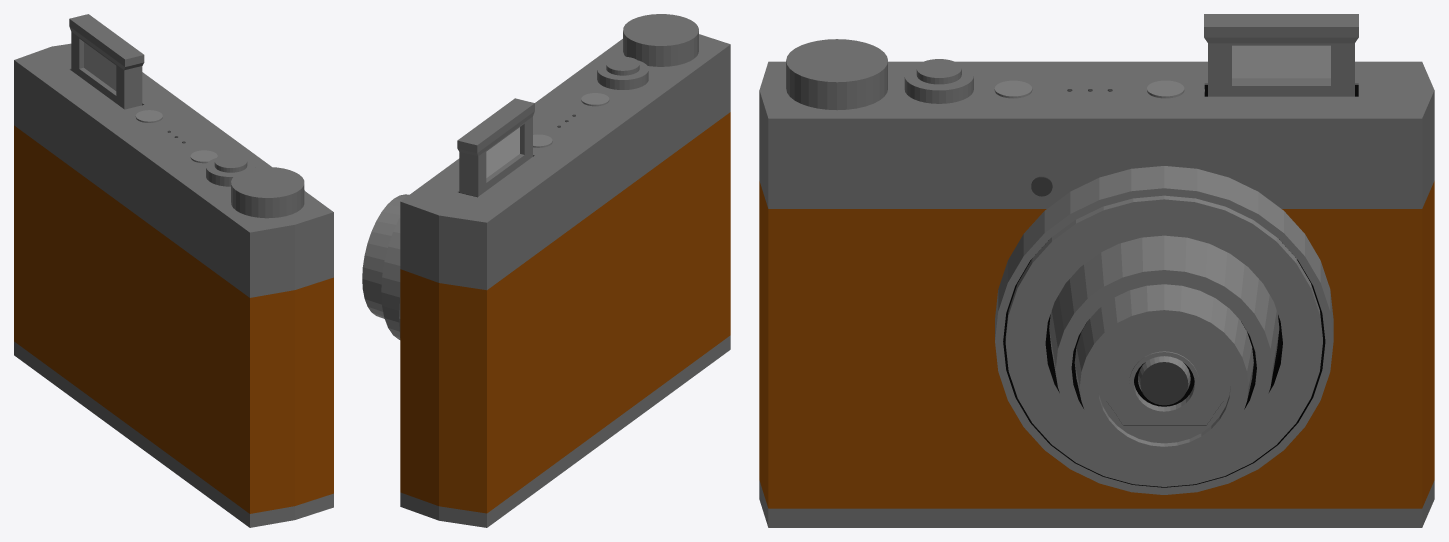
The model's file is camera.fbx.
3 views of the same model, side by side, from view 1: azimuth 30°, elevation 25°; view 2: azimuth 150°, elevation 25°; view 3: azimuth 270°, elevation 25° (orthographic). The views are drawn at different scales.
Parts seen in each view (by area): view 1: Cube, Cube.001, Cylinder, Cylinder.001; view 2: Cube, Cube.001, Cylinder.006, Cylinder, Cylinder.001; view 3: Cube, Cylinder.006, Cube.001, Cylinder, Cylinder.001.
Boxes of the visible parts, x1=… form: Cube: x1=14, y1=43, x2=333, y2=527; Cube.001: x1=69, y1=14, x2=144, y2=109; Cylinder: x1=231, y1=167, x2=304, y2=218; Cylinder.001: x1=206, y1=154, x2=255, y2=186; Cube: x1=400, y1=34, x2=730, y2=527; Cube.001: x1=457, y1=98, x2=534, y2=196; Cylinder.006: x1=362, y1=194, x2=408, y2=339; Cylinder: x1=623, y1=14, x2=698, y2=66; Cylinder.001: x1=597, y1=56, x2=648, y2=89; Cube: x1=759, y1=61, x2=1434, y2=527; Cylinder.006: x1=995, y1=166, x2=1333, y2=494; Cube.001: x1=1204, y1=14, x2=1358, y2=96; Cylinder: x1=786, y1=39, x2=887, y2=110; Cylinder.001: x1=904, y1=59, x2=973, y2=103.
Size of the model in its own units: 173 by 312 by 399.
